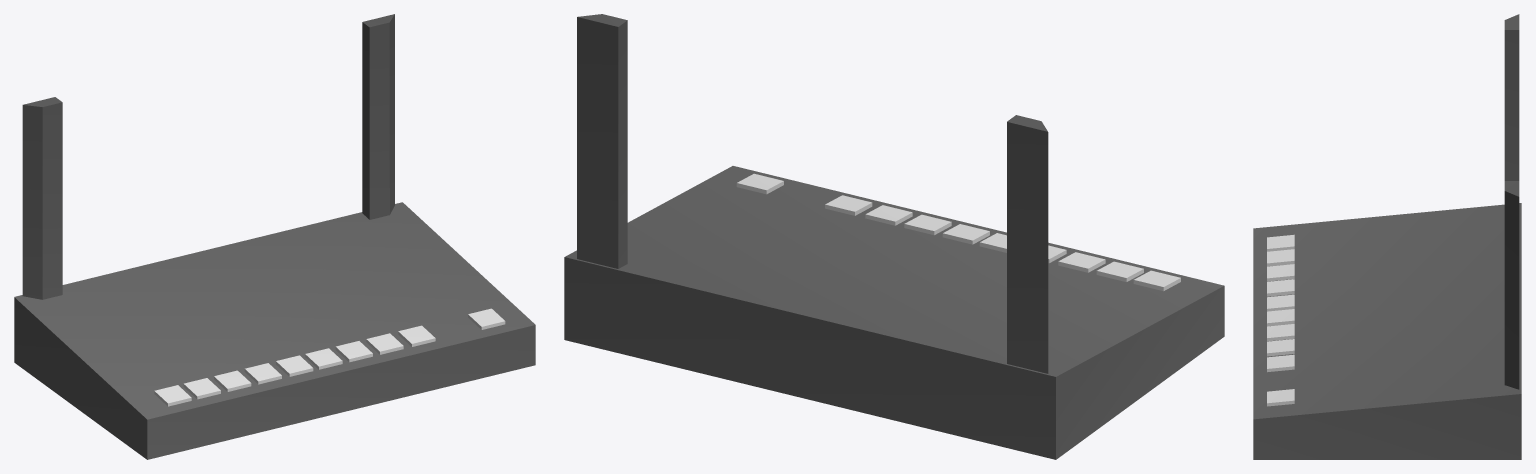
Rendered from Modem.fbx.
3 renders of one model, left to right at view 1: azimuth 30°, elevation 25°; view 2: azimuth 150°, elevation 25°; view 3: azimuth 270°, elevation 25°, orthographic. The views are drawn at different scales.
Visible parts, largest first — view 1: Modem; view 2: Modem; view 3: Modem.
Part boxes in pixels (x1=…): Modem: x1=14, y1=14, x2=535, y2=459; Modem: x1=564, y1=14, x2=1224, y2=459; Modem: x1=1253, y1=14, x2=1521, y2=459.
Size of the model in its own units: 21.34 by 13.48 by 12.67.
